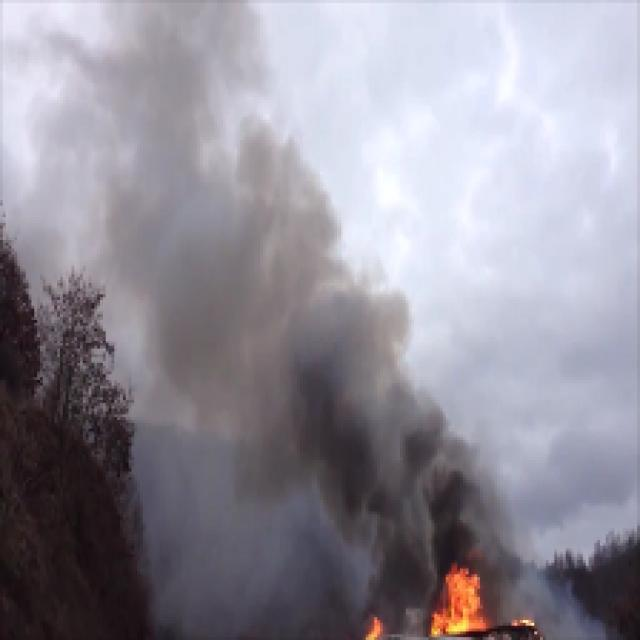Fire: (432, 570, 490, 632)
Smoke: (90, 15, 260, 328), (175, 336, 432, 460), (326, 464, 498, 564)
